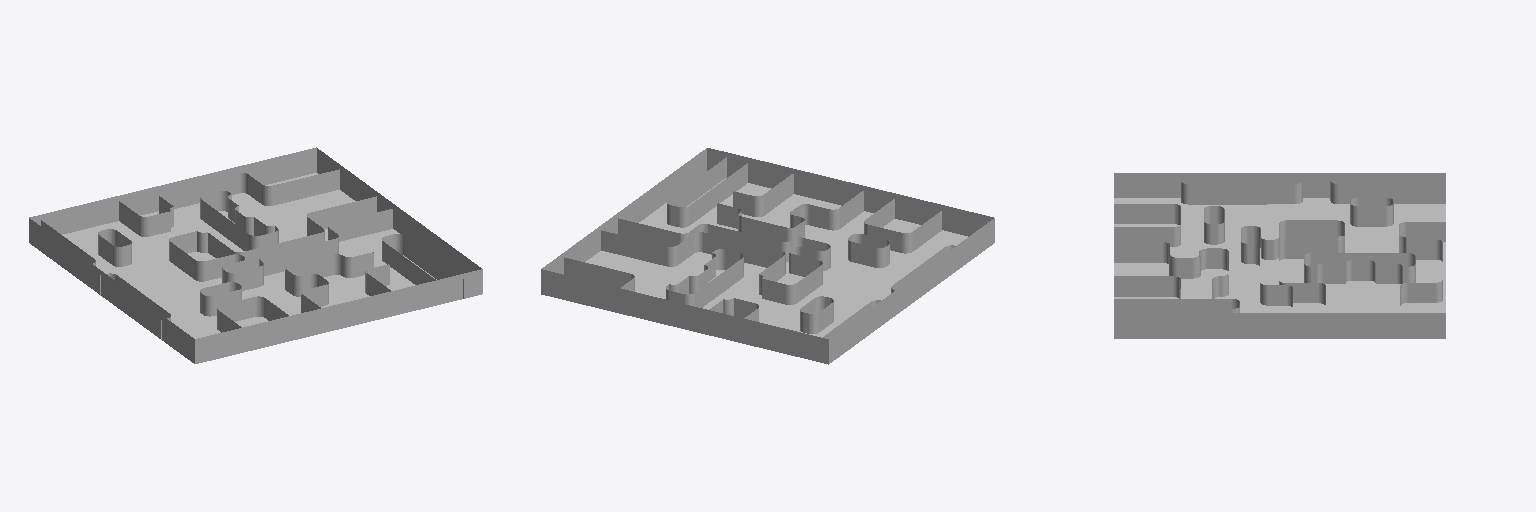
File: arena.obj
The picture shows the model from 3 angles: view 1: azimuth 30°, elevation 25°; view 2: azimuth 150°, elevation 25°; view 3: azimuth 270°, elevation 25°; orthographic projection.
Parts seen in each view (by area): view 1: walls.001, OuterWalls.002, Floor; view 2: walls.001, OuterWalls.002, Floor; view 3: walls.001, Floor, OuterWalls.002.
Part boxes in pixels (left/top/right/bottom): walls.001: left=41, top=169, right=463, bottom=339; OuterWalls.002: left=29, top=147, right=482, bottom=363; Floor: left=62, top=173, right=436, bottom=338; walls.001: left=564, top=157, right=955, bottom=338; OuterWalls.002: left=541, top=148, right=994, bottom=364; Floor: left=585, top=178, right=967, bottom=337; walls.001: left=1114, top=181, right=1445, bottom=312; Floor: left=1114, top=198, right=1445, bottom=312; OuterWalls.002: left=1114, top=173, right=1445, bottom=338.
Bounding box in the file's own units: 38.1 × 3.2 × 38.09.